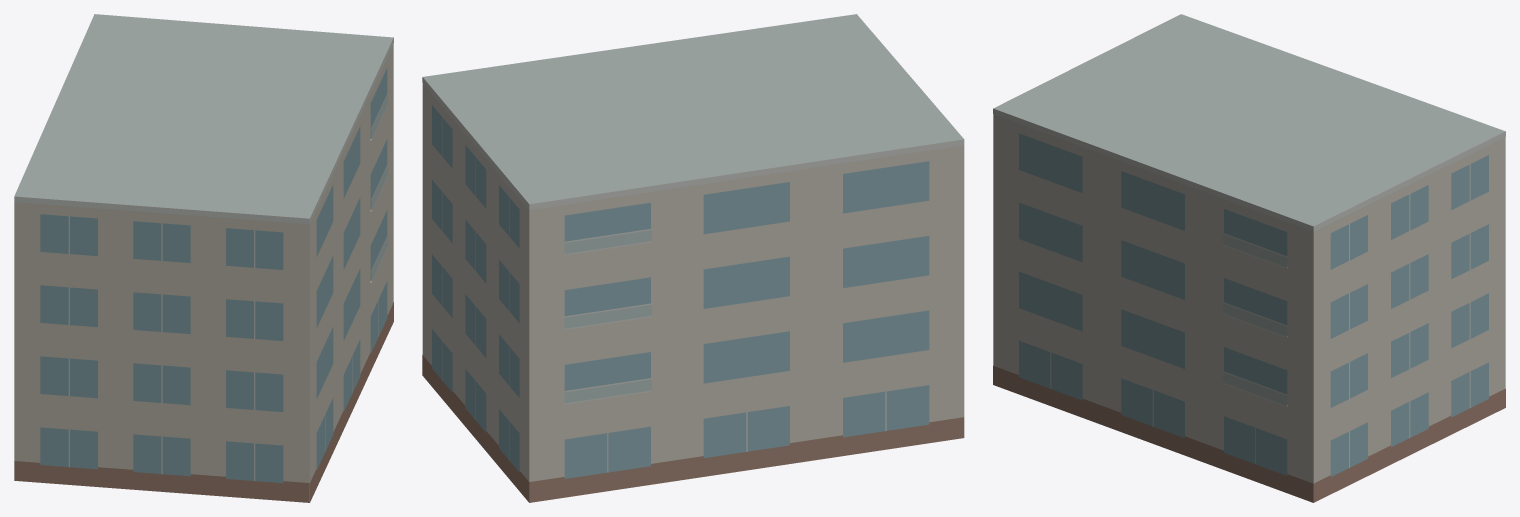
Rendered from survey-upis-32684514.glb.
The picture shows the model from 3 angles, left to right: view 1: azimuth 30°, elevation 25°; view 2: azimuth 150°, elevation 25°; view 3: azimuth 270°, elevation 25°; orthographic projection. The views are drawn at different scales.
Parts seen in each view (by area): view 1: survey-upis-32684514.tmp; view 2: survey-upis-32684514.tmp; view 3: survey-upis-32684514.tmp.
Boxes of the visible parts, <box> form: survey-upis-32684514.tmp: <box>14,14,393,502</box>; survey-upis-32684514.tmp: <box>422,14,964,502</box>; survey-upis-32684514.tmp: <box>993,14,1505,502</box>.
Bounding box in the file's own units: 20.45 × 12.4 × 20.85.
